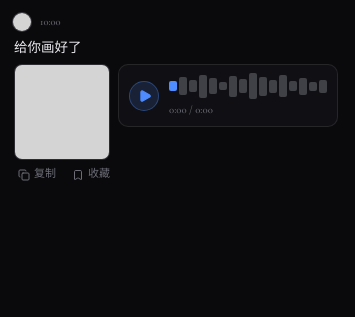
Test: #74 collect menu (D1 / D2) › enables collectible artifacts and keeps the body entry first
Click the button with aria-label "收藏此条消息" at {"x": 91, "y": 175}, box [66,164,116,185]
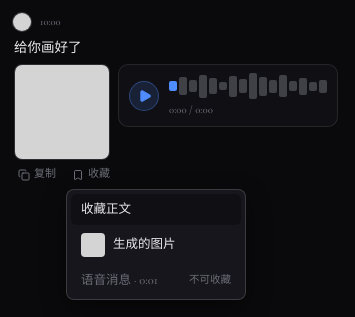
Now the menu items read "收藏正文", "生成的图片", "语音消息 · 0:01不可收藏", in this order, box [71,194,241,225]; [71,226,241,262]; [71,264,241,295]
